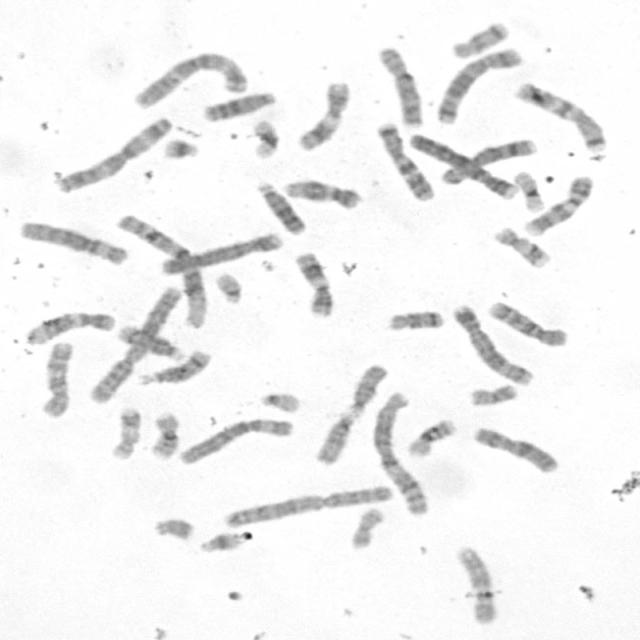A1: (115, 212, 209, 330), (370, 390, 433, 515)
A2: (86, 283, 182, 406), (220, 484, 394, 530)
A3: (56, 116, 173, 196), (132, 52, 248, 111)
B4: (406, 133, 520, 201), (157, 234, 285, 278)
B5: (452, 303, 535, 387), (434, 48, 521, 125)
C10: (485, 299, 571, 349), (37, 339, 77, 419)
C11: (296, 80, 352, 153), (292, 250, 336, 320)
C12: (23, 310, 118, 346), (284, 178, 365, 211)
C6: (180, 418, 294, 468), (18, 219, 132, 267)
C7: (510, 79, 608, 153), (376, 122, 436, 202)
C8: (439, 138, 540, 187), (376, 46, 425, 128)
C9: (523, 174, 596, 238), (452, 544, 498, 625)
D13: (253, 180, 307, 235), (201, 92, 278, 122)
D14: (133, 348, 215, 388), (116, 322, 185, 361)
D15: (314, 414, 355, 469), (348, 363, 388, 415)
E16: (406, 418, 458, 460), (148, 408, 181, 462)
E17: (492, 227, 552, 270), (110, 404, 143, 462)
E18: (448, 21, 511, 60), (386, 309, 444, 333)
F19: (512, 169, 546, 215), (249, 118, 282, 160)
F20: (349, 508, 385, 550), (468, 383, 516, 407)
G21: (198, 532, 242, 556), (161, 138, 202, 160)
G22: (213, 272, 246, 306), (259, 392, 301, 414)
X: (472, 426, 561, 474)
Y: (152, 517, 196, 542)
